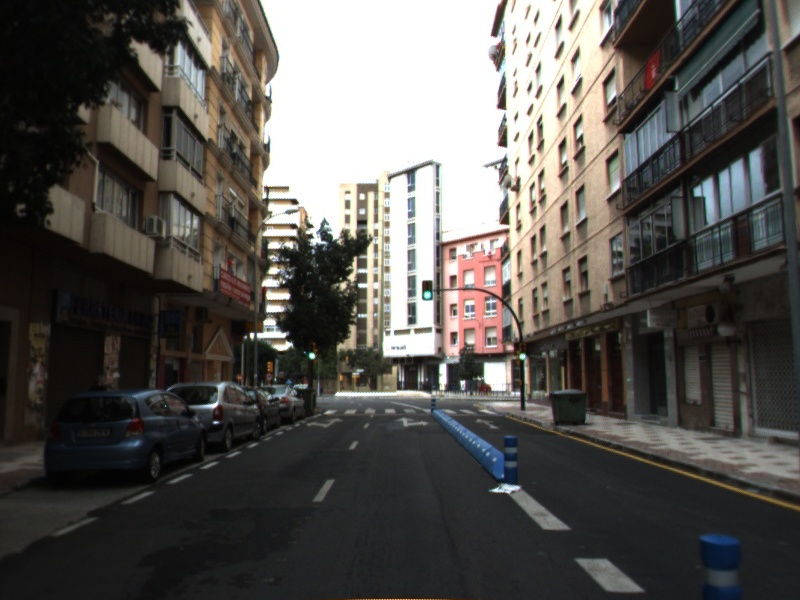STRAIGHT: (474, 417, 501, 430)
STRAIGHT_LEFT: (305, 416, 345, 429)
STRAIGHT_RIGHT: (394, 415, 431, 428)
